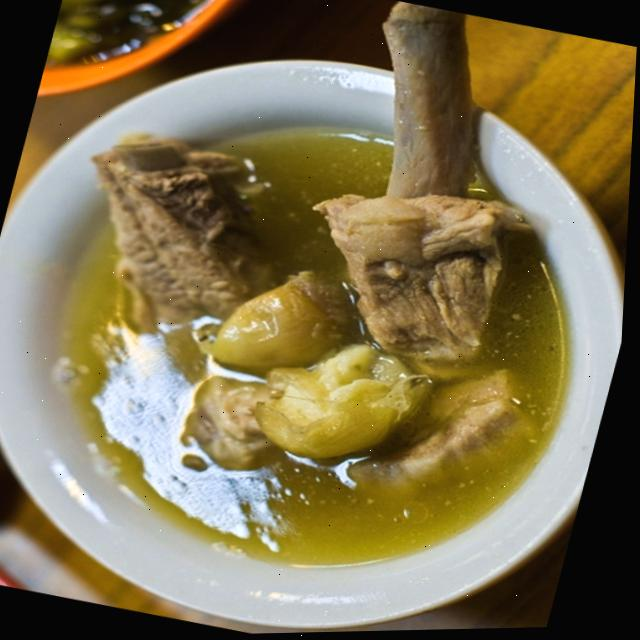汤锅炖物: (0, 23, 639, 640)
